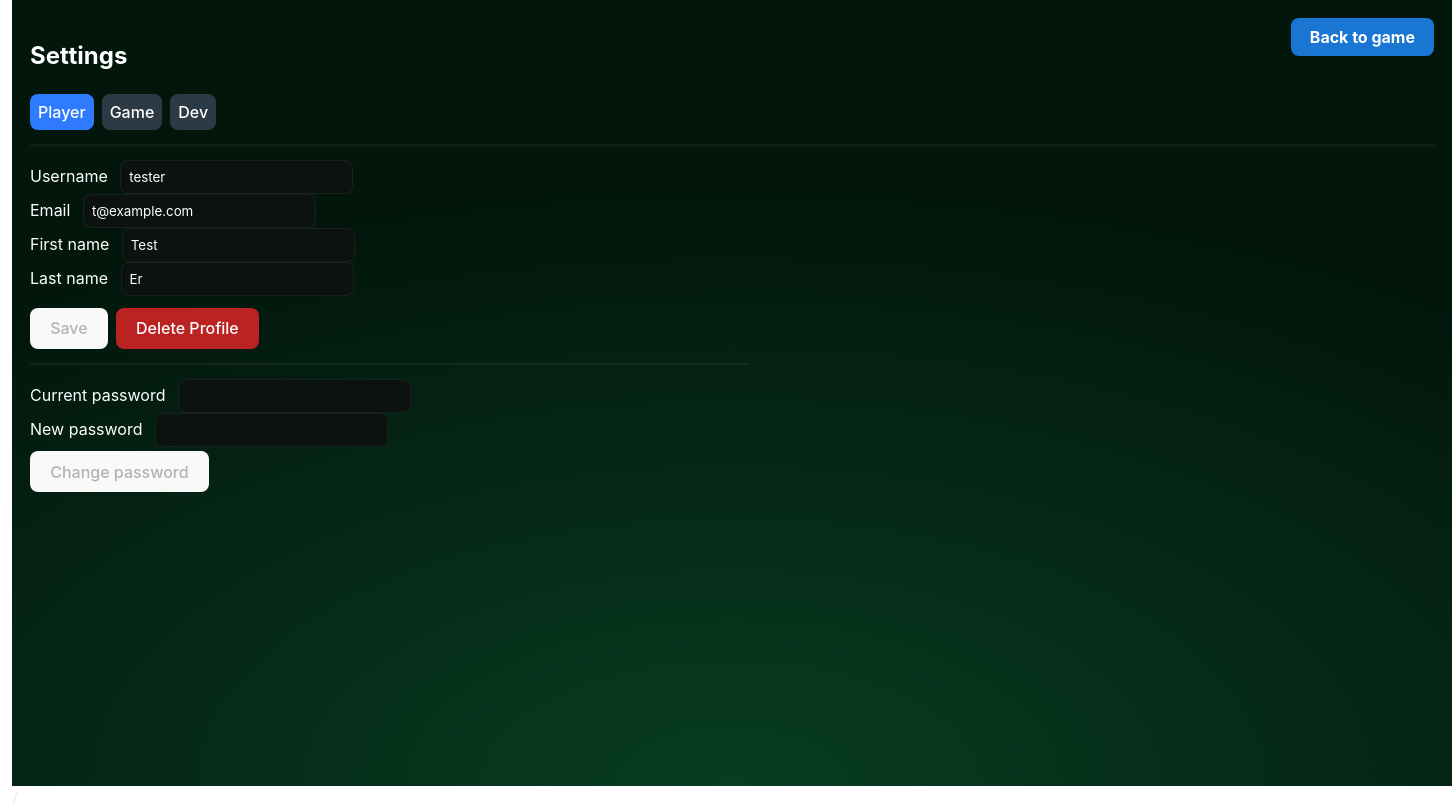
Test: Settings › enables Save only for a valid profile change, and saves it
Check: the button "Save" is disabled, box x1=30 y1=308 x2=108 y2=349
Replace the text in the field labelled "Username" with "ab" at (237, 177), box x1=120 y1=160 x2=353 y2=194
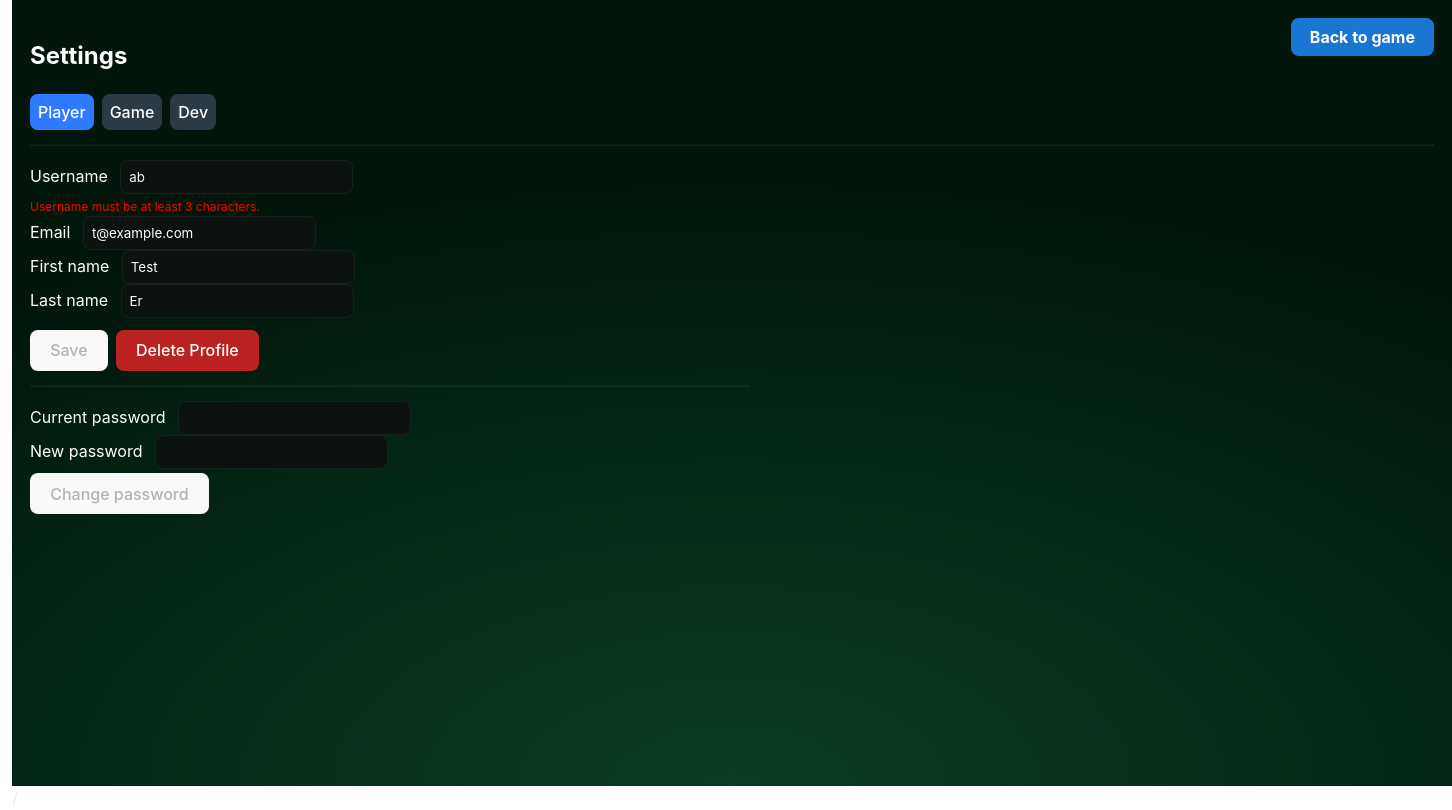
Check: the button "Save" is disabled, box x1=30 y1=330 x2=108 y2=371
Check: the text "Username must be at least 3 characters." is shown, box x1=30 y1=199 x2=260 y2=214
Replace the text in the field labelled "Username" with "renamed" at (237, 177), box x1=120 y1=160 x2=353 y2=194
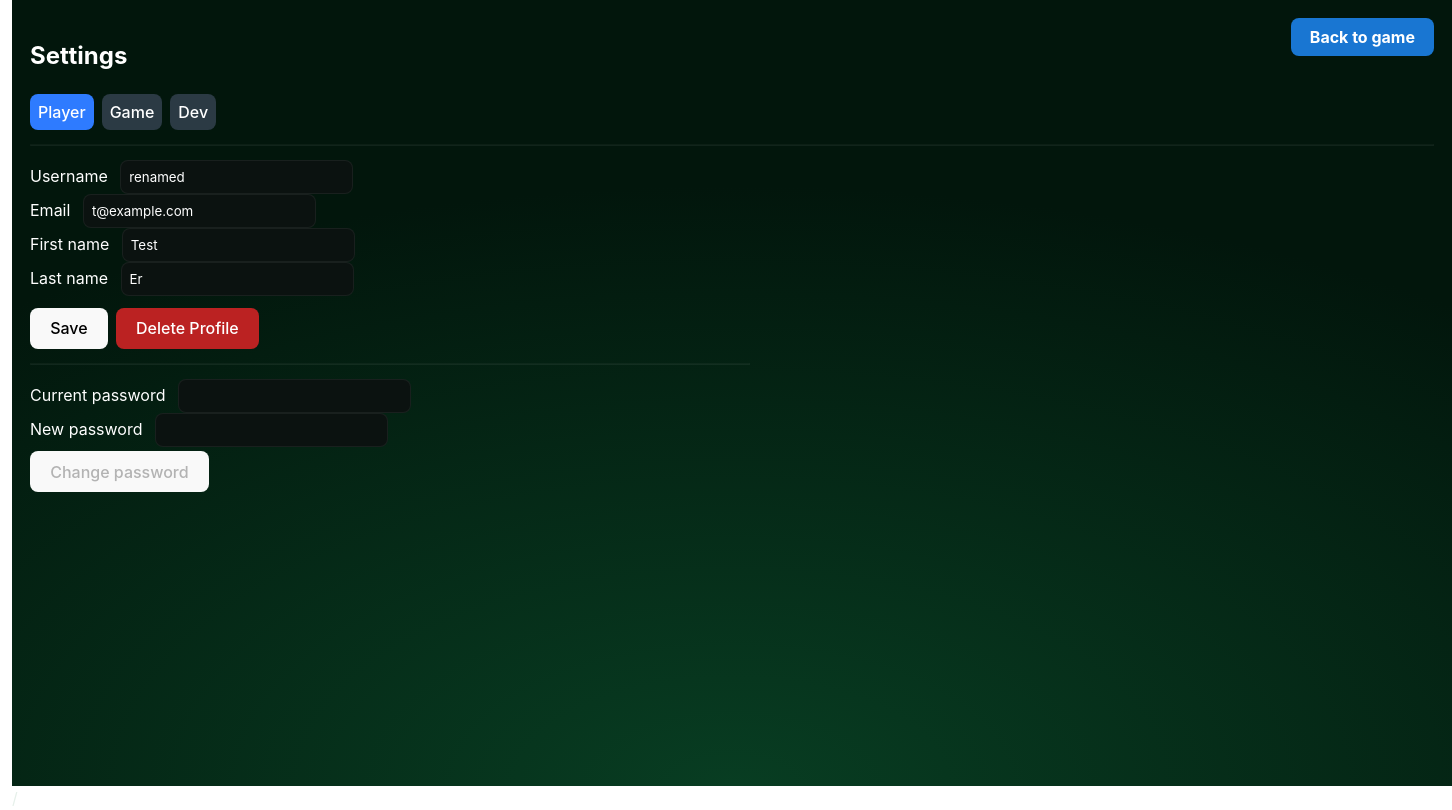
Check: the button "Save" is enabled
Click the button "Save" at (69, 328), box x1=30 y1=308 x2=108 y2=349
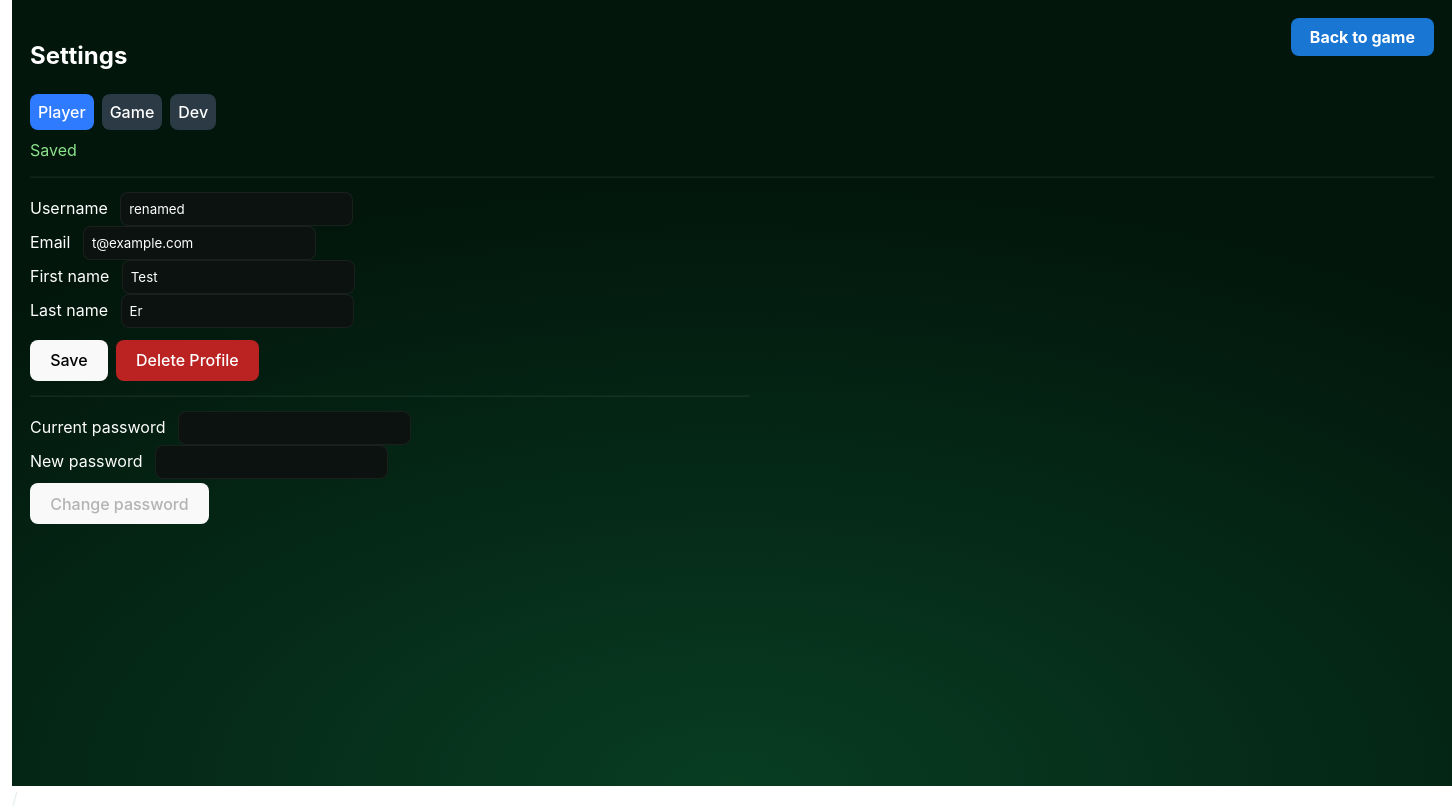
Check: the message reads "Saved", box x1=30 y1=140 x2=77 y2=160
